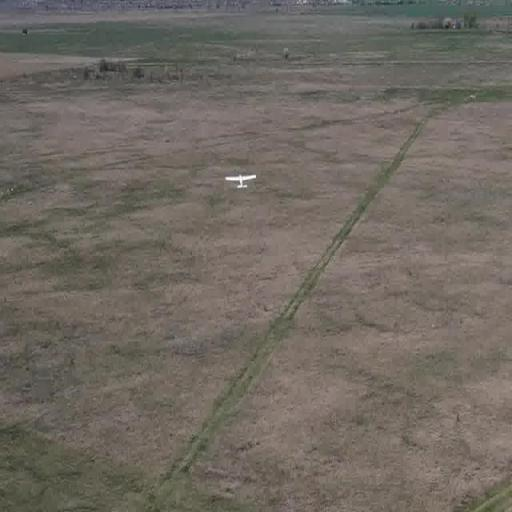uav: (224, 165, 260, 197)
